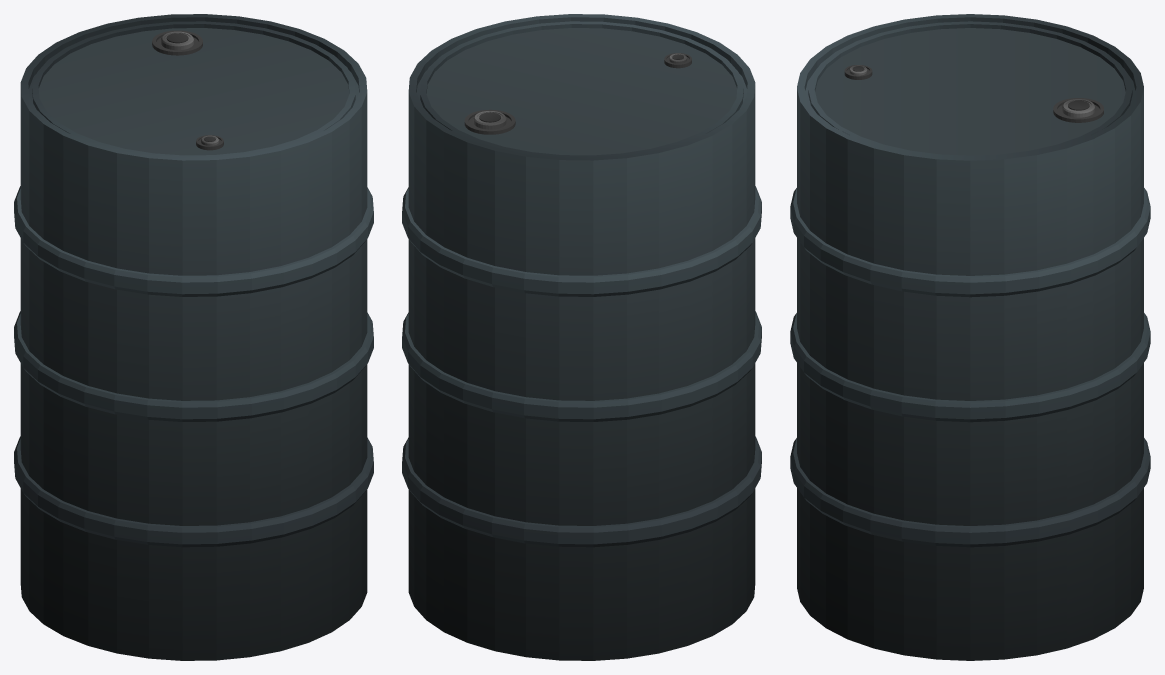
Rendered from Industrial Barrel Dark Grey.fbx.
3 views of the same model, side by side, from view 1: azimuth 30°, elevation 25°; view 2: azimuth 150°, elevation 25°; view 3: azimuth 270°, elevation 25° (orthographic).
Parts seen in each view (by area): view 1: Industrial Barrel #6; view 2: Industrial Barrel #6; view 3: Industrial Barrel #6.
Part boxes in pixels (bbox=[...]): Industrial Barrel #6: bbox=[14, 14, 373, 660]; Industrial Barrel #6: bbox=[402, 14, 761, 660]; Industrial Barrel #6: bbox=[790, 14, 1150, 660].
Bounding box in the file's own units: 429 × 280 × 280.
1 material, 1 textured.
